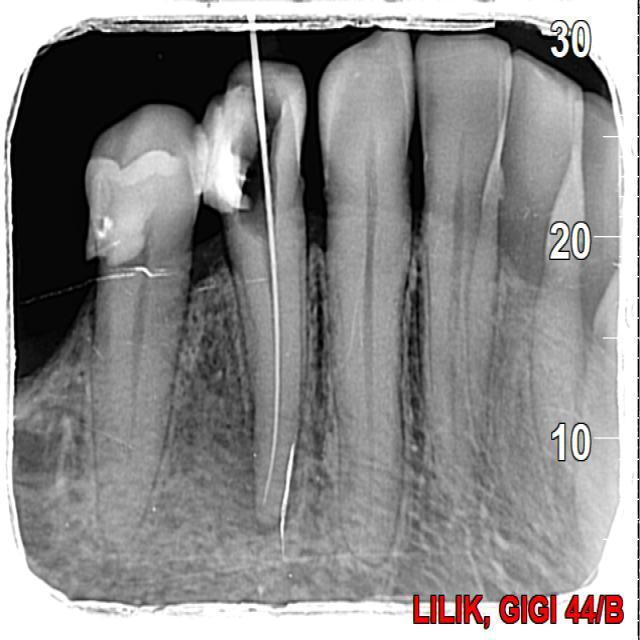individual-tooth-8tto: (82, 107, 218, 550), (191, 60, 314, 532), (317, 26, 415, 558), (419, 34, 519, 508)
